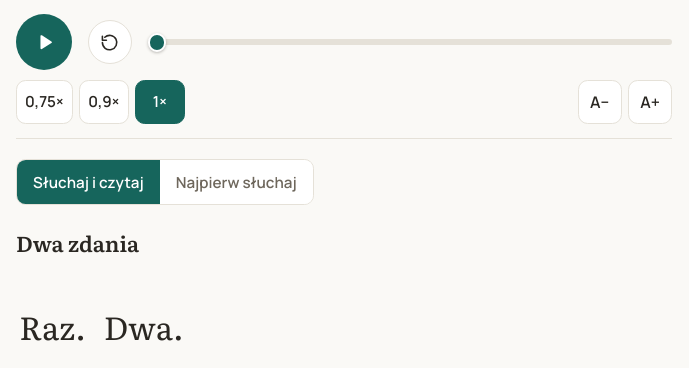
Test: Player › repeats the current phrase from its start and plays
Click the button named "Powtórz zdanie" at (110, 42), box [88,20,132,64]
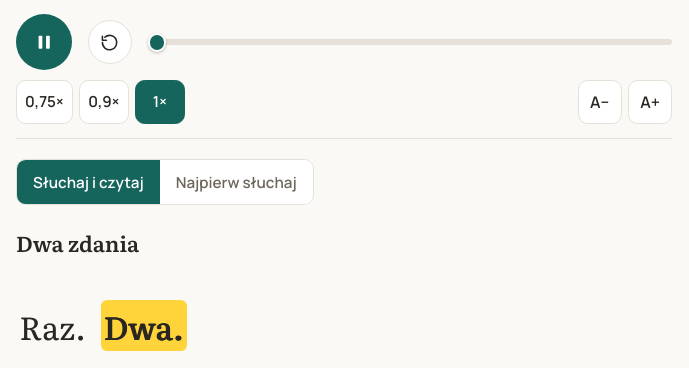
Result: the button named "pauza" is shown at [16,14,72,70]
